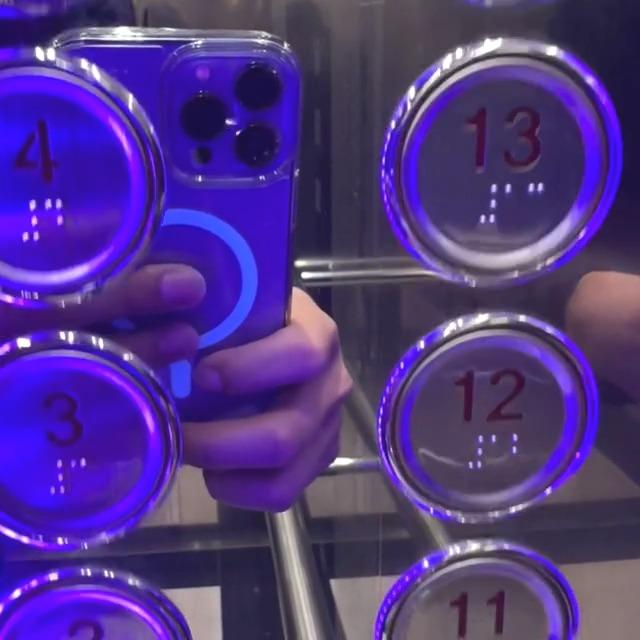button: (382, 67, 612, 272), (358, 326, 579, 518), (0, 49, 148, 309), (0, 338, 168, 547), (388, 550, 570, 640)
